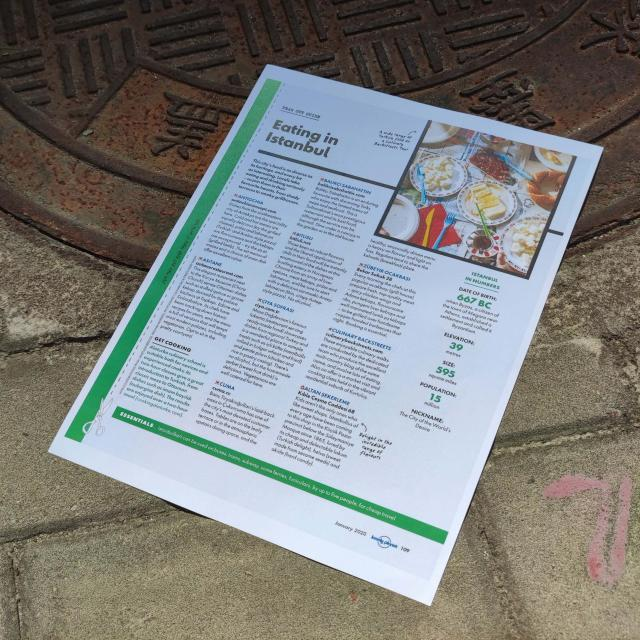document: (50, 65, 601, 604)
